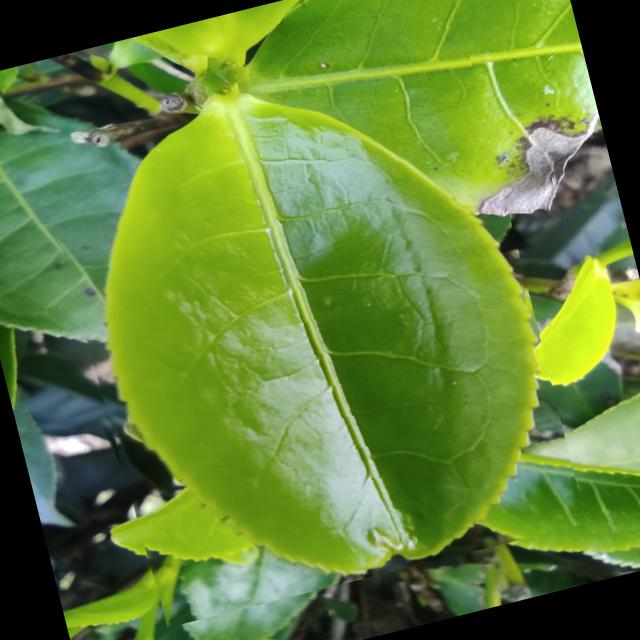Category B(2-4 days): (27, 21, 586, 632)
